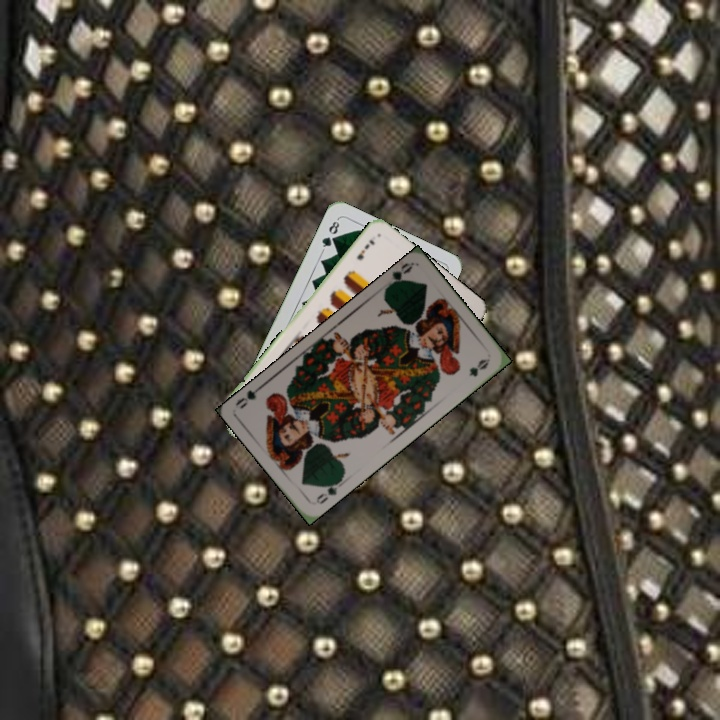E7: (353, 236, 378, 263)
G8: (318, 215, 342, 253)
GO: (381, 259, 414, 293), (312, 476, 344, 507)
